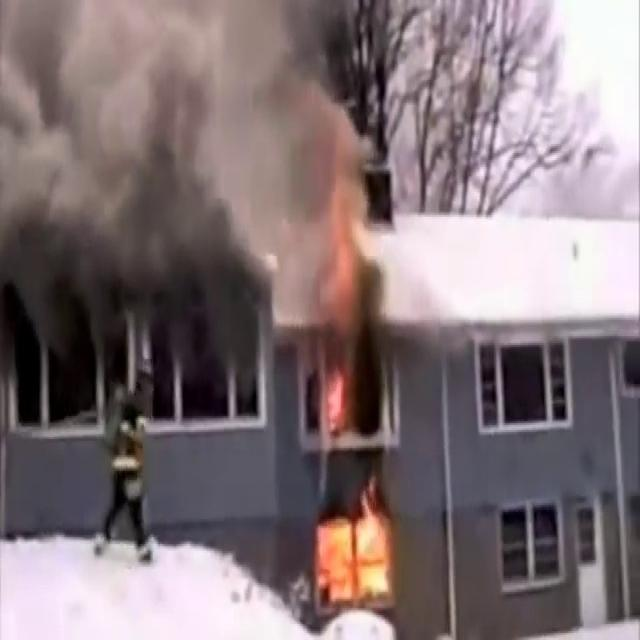Fire: (308, 476, 405, 622), (322, 125, 378, 348)
Smoke: (0, 0, 370, 409)
